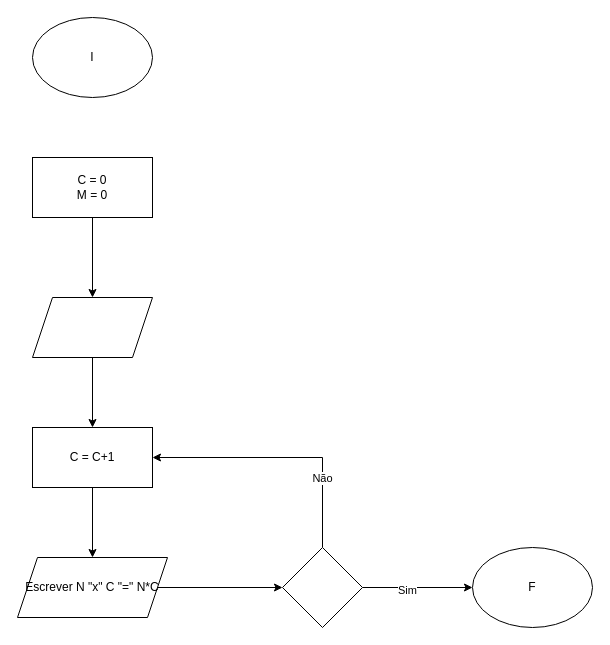
This 610x645 diagram has some shape labels left out. Each missing label, with the centre of its shape:
"C = 10" goes at point 322,587.
"Pedir N" goes at point 92,327.
